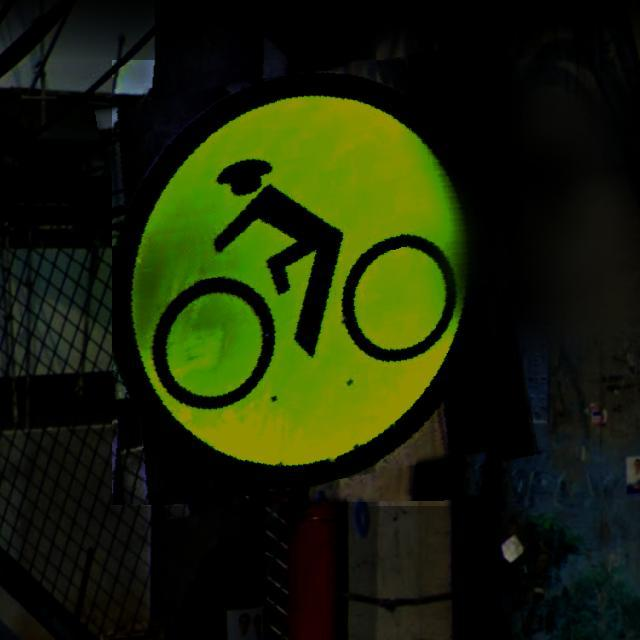bike lane: (112, 60, 522, 506)
